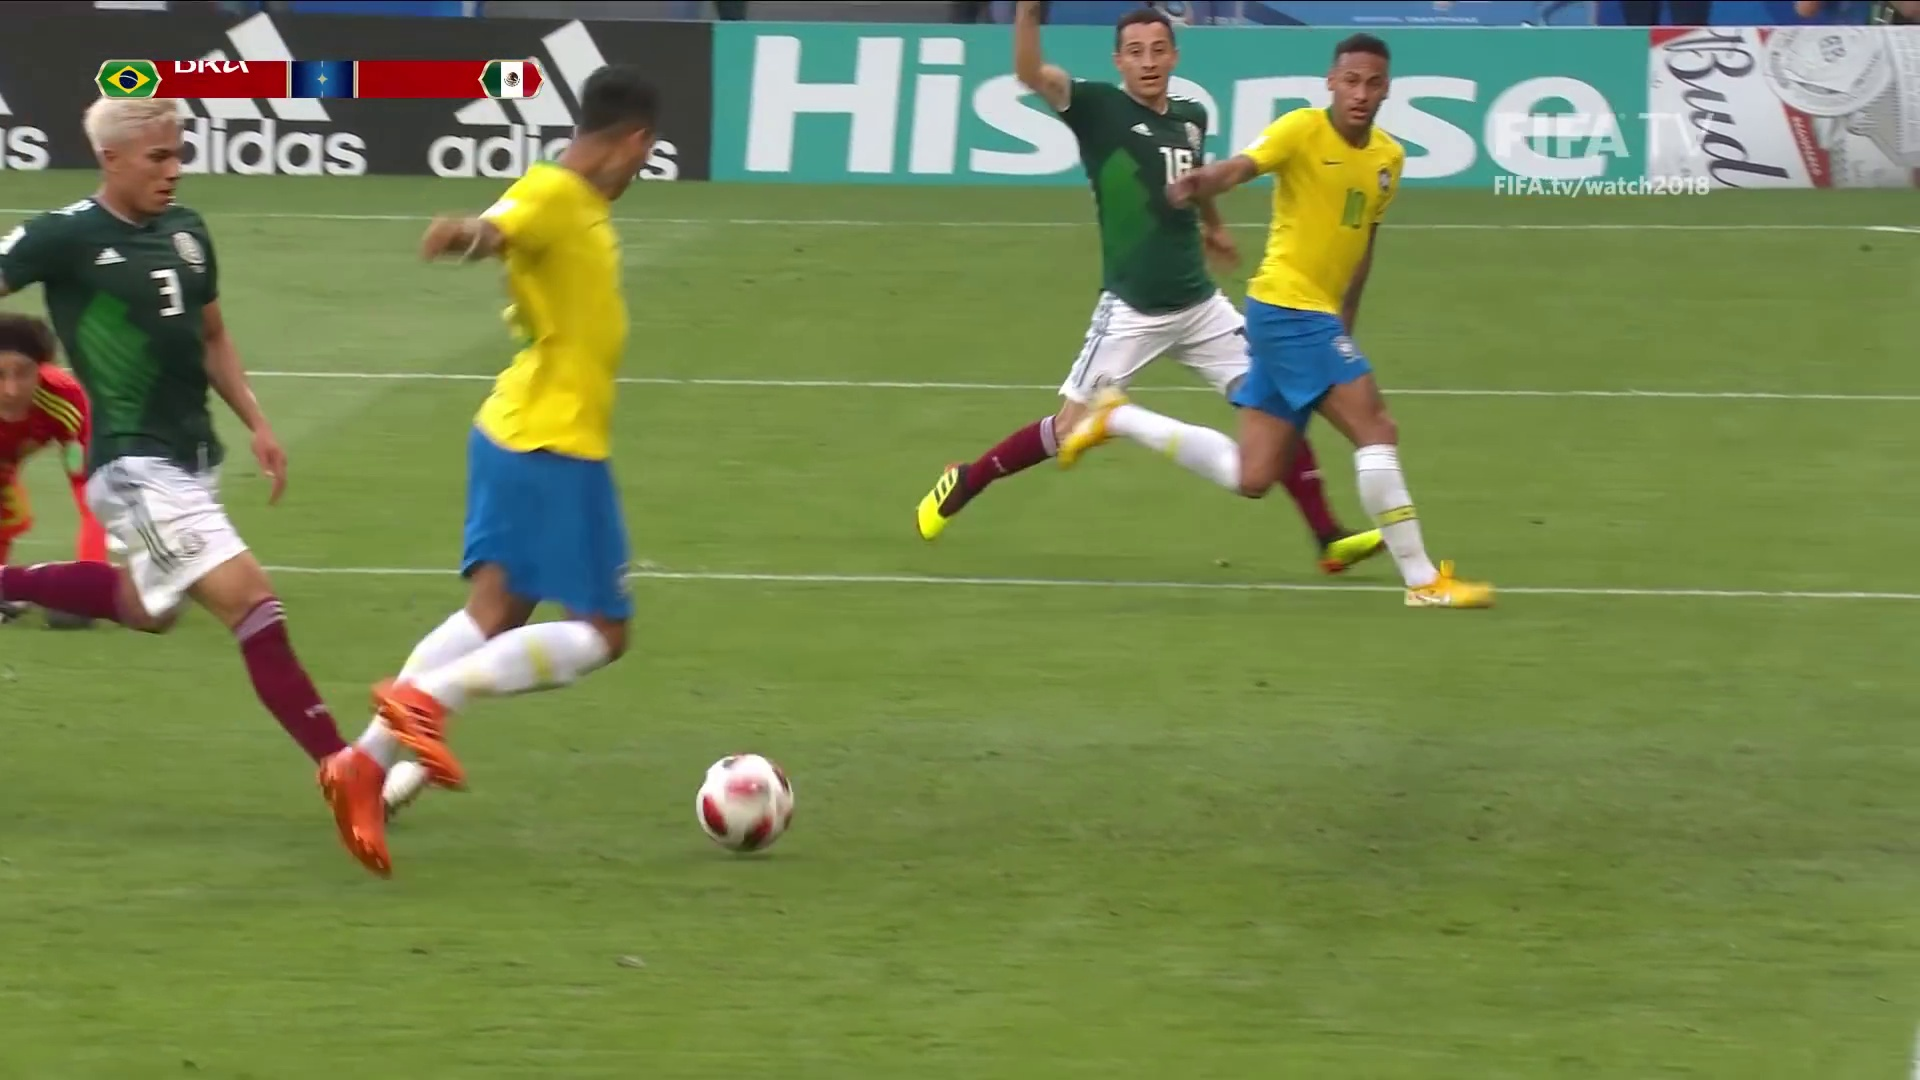ball: (692, 759, 788, 851)
person: (934, 1, 1369, 580), (1073, 36, 1488, 607), (7, 90, 346, 763), (357, 70, 621, 859)
